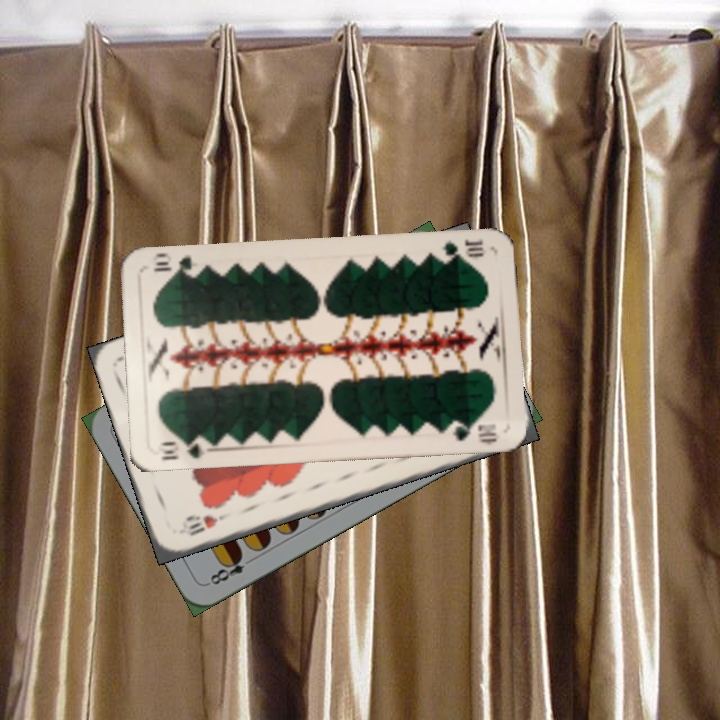E8: (203, 549, 258, 588)
G10: (433, 235, 489, 263), (153, 436, 212, 462)
H10: (185, 509, 231, 539)
